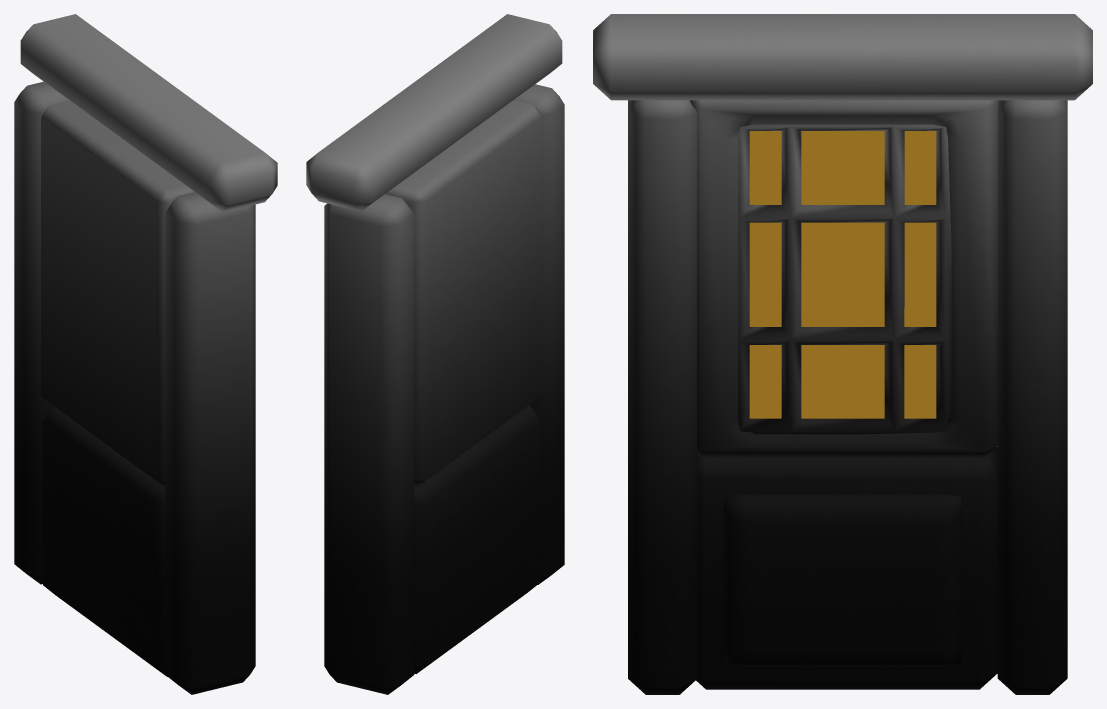
Rendered from SM_Brick_Door_04.fbx.
The picture shows the model from 3 angles, left to right: view 1: azimuth 30°, elevation 25°; view 2: azimuth 150°, elevation 25°; view 3: azimuth 270°, elevation 25°; orthographic projection. The views are drawn at different scales.
Parts seen in each view (by area): view 1: SM_Brick_Door_04; view 2: SM_Brick_Door_04; view 3: SM_Brick_Door_04.
Part boxes in pixels (x1,y1,x2,y2): SM_Brick_Door_04: [14, 14, 277, 694]; SM_Brick_Door_04: [306, 14, 564, 694]; SM_Brick_Door_04: [593, 14, 1092, 694].
Size of the model in its own units: 0.0957 by 0.5836 by 0.4005.
